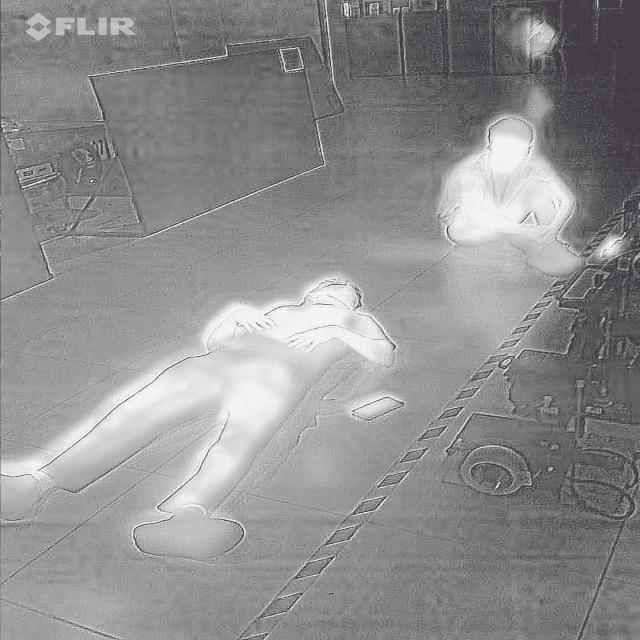Victim: (0, 274, 399, 560), (430, 108, 596, 276)
